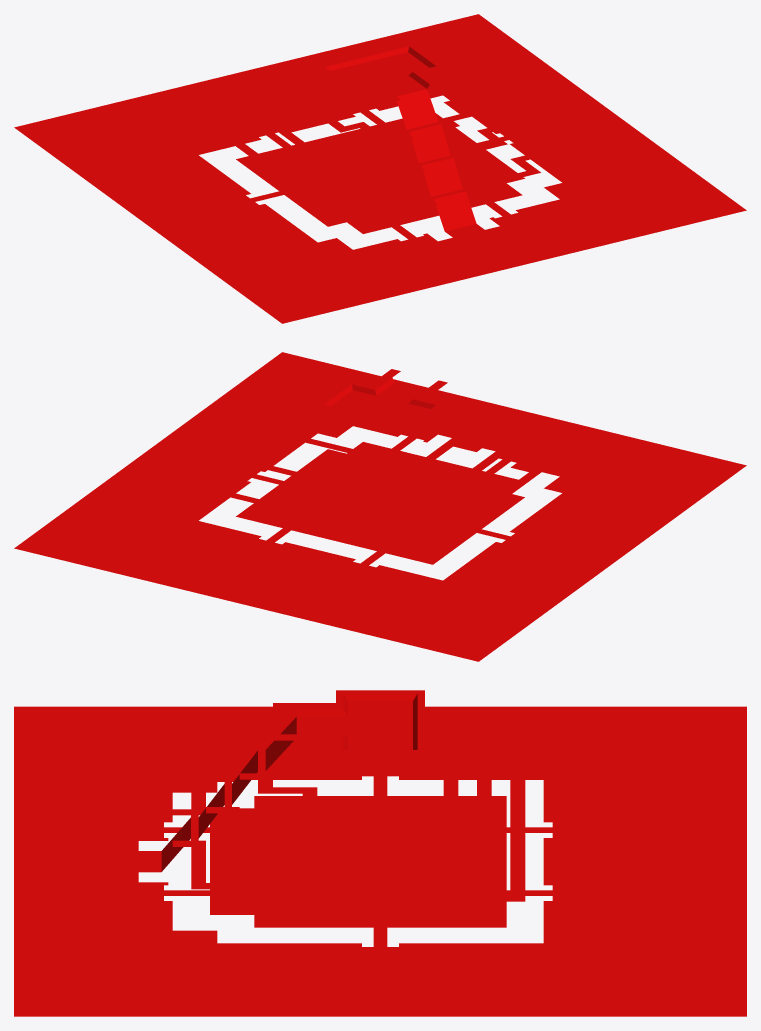
Rendered from pyramid_navmesh.glb.
3 views of the same model, one above another, from view 1: azimuth 30°, elevation 25°; view 2: azimuth 150°, elevation 25°; view 3: azimuth 270°, elevation 25° (orthographic). The views are drawn at different scales.
Bounding box in the file's own units: 49.4 × 10.4 × 49.4.
